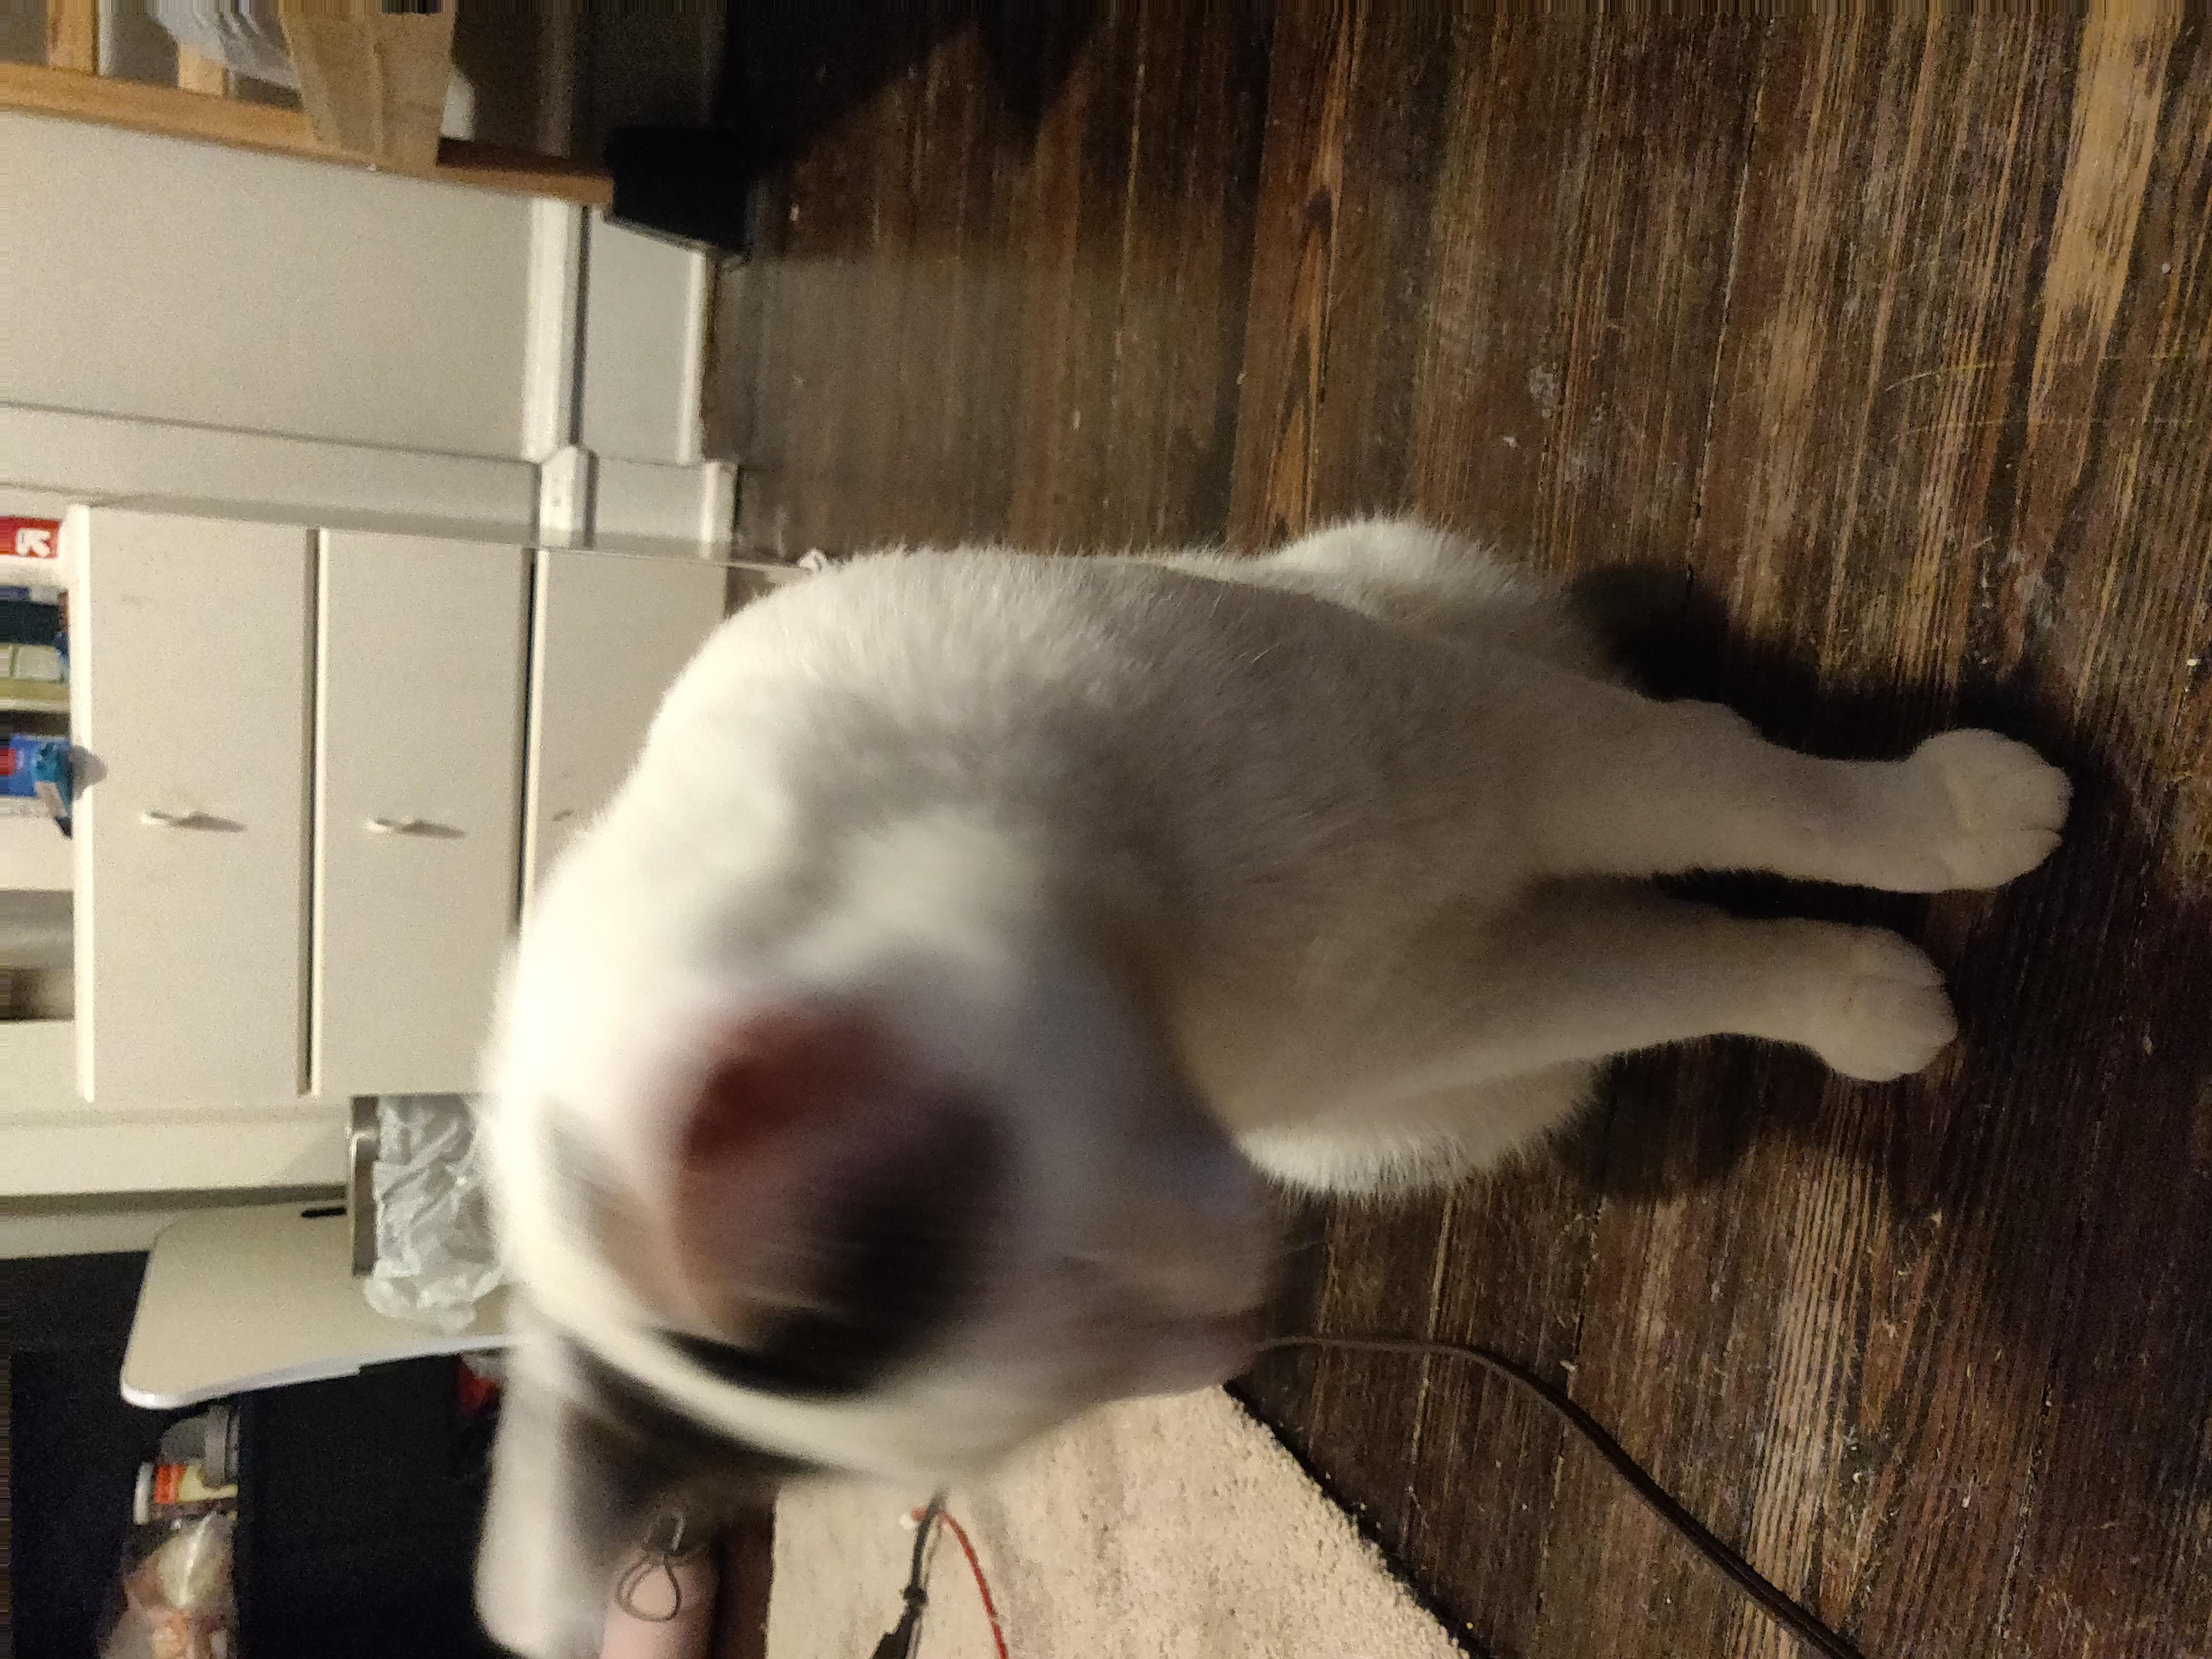cat: (488, 513, 2007, 1639)
